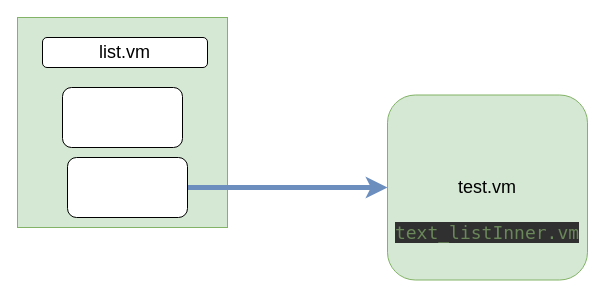
Some shapes in this 605 by 298 pixel diagram are drawn without their labels. Here are the shapes that lost their labels. From the top down, the box of each, then its label:
(62, 86, 182, 148): process.js
(66, 156, 188, 218): iframe
